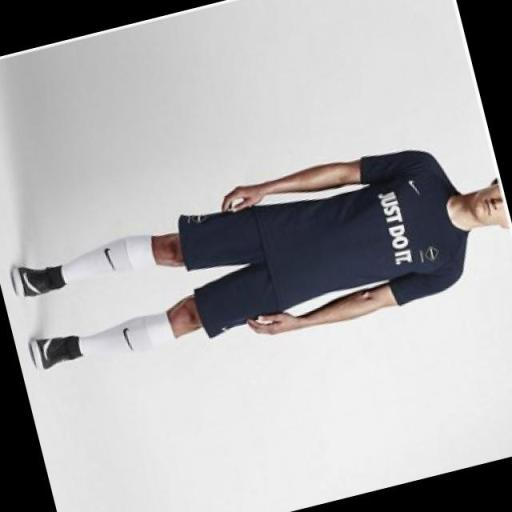Nike: (406, 175, 421, 200)
